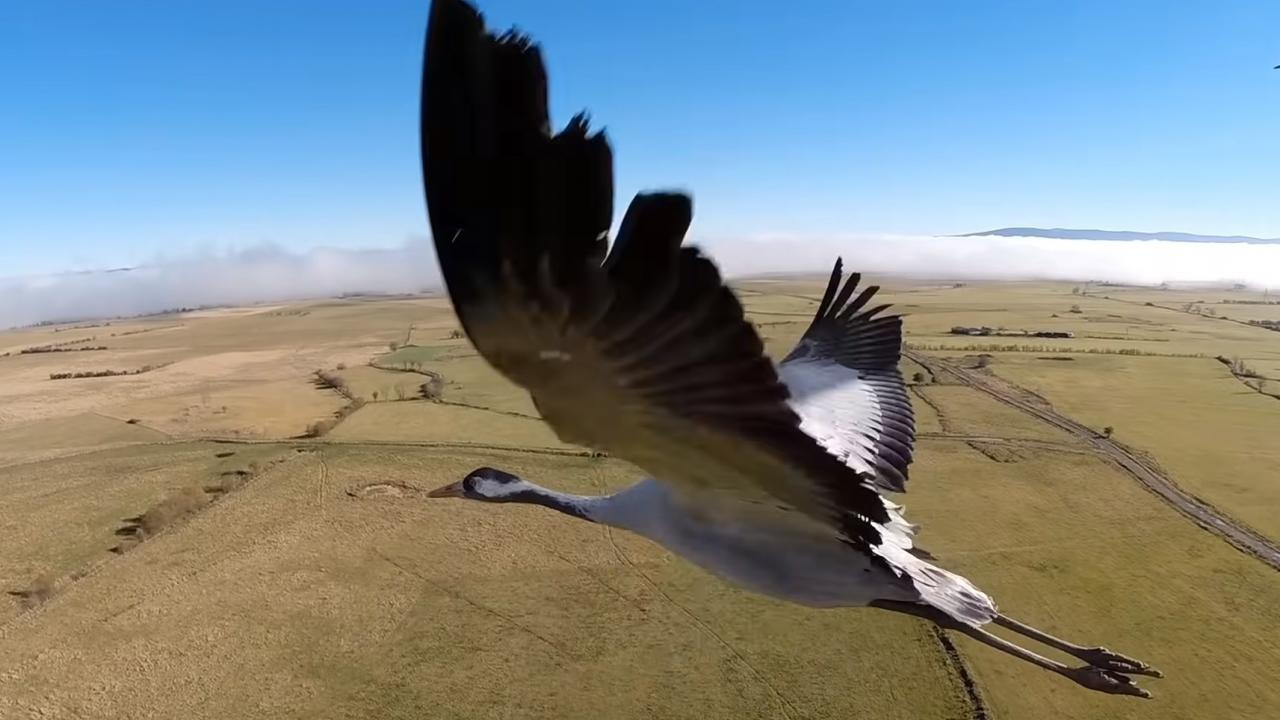Bird: (399, 0, 1165, 703)
